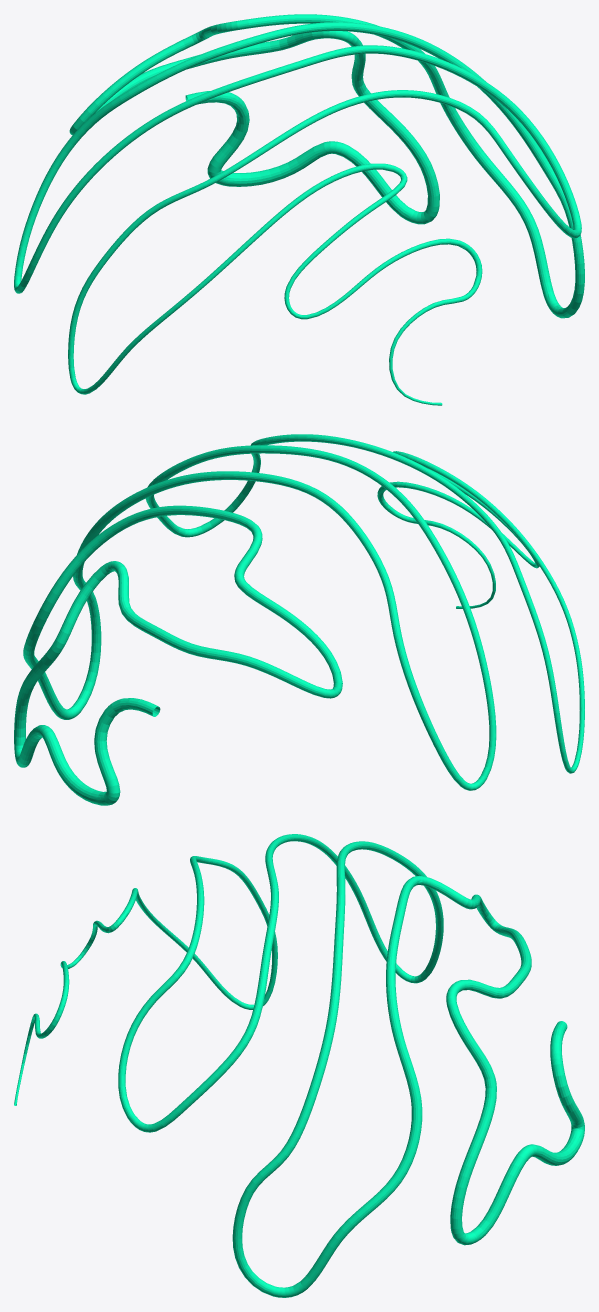
File: example01.glb
The picture shows the model from 3 angles, top to bottom: view 1: azimuth 30°, elevation 25°; view 2: azimuth 150°, elevation 25°; view 3: azimuth 270°, elevation 25°; orthographic projection. The views are drawn at different scales.
Visible parts, largest first — view 1: line_00000; view 2: line_00000; view 3: line_00000.
Part boxes in pixels (x1,y1,x2,y2): line_00000: (14, 14, 584, 405); line_00000: (14, 434, 584, 805); line_00000: (14, 834, 584, 1297).
Bounding box in the file's own units: 3.99 × 2.46 × 4.
